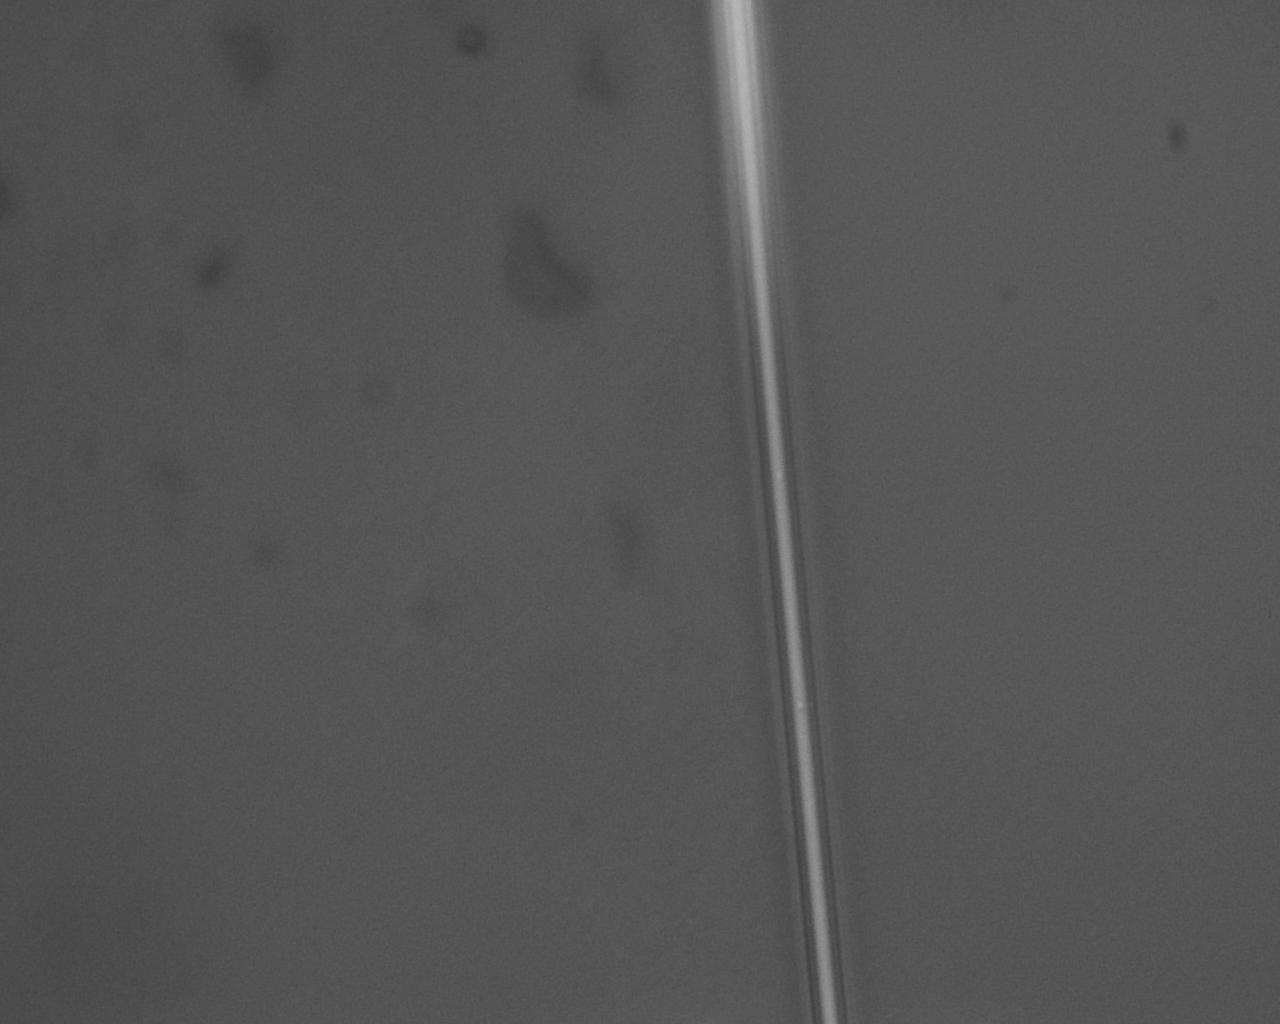fiber: (714, 0, 852, 1024)
